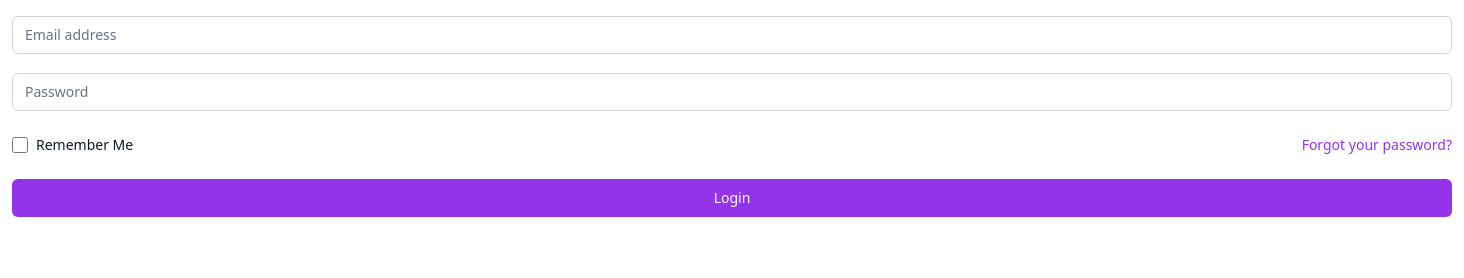
Test: Login › displays the error message when false information is entered
This screenshot has width=1464, height=278.
Type "invalid@wrong.com" into the field with placeholder "Email address". click: (732, 35)
box: [12,16,1452,54]
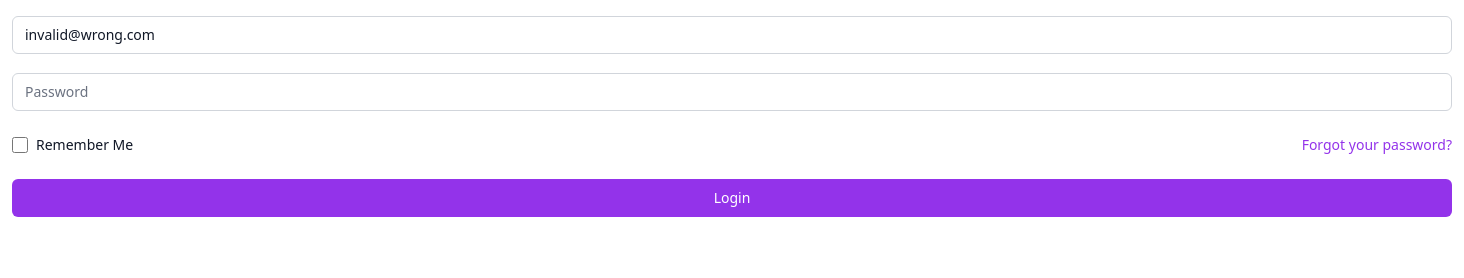
Type "wrongwrong" into the password field with placeholder "Password". click: (732, 92)
box: [12,73,1452,111]
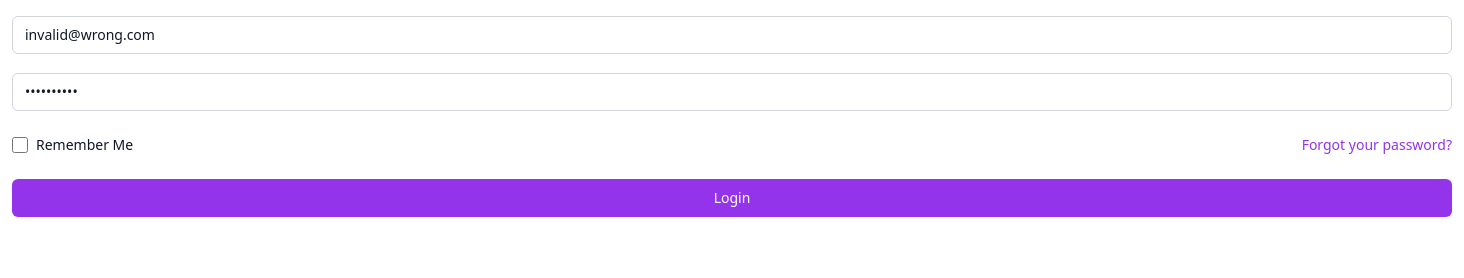
Click the button "Login". click: (732, 198)
box: [12,179,1452,217]
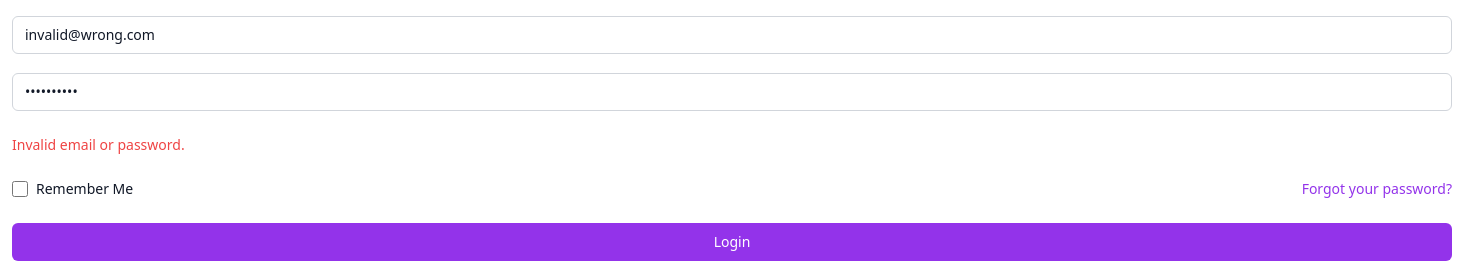
Check: the text "Invalid email or password." is shown, box [12,135,185,154]
